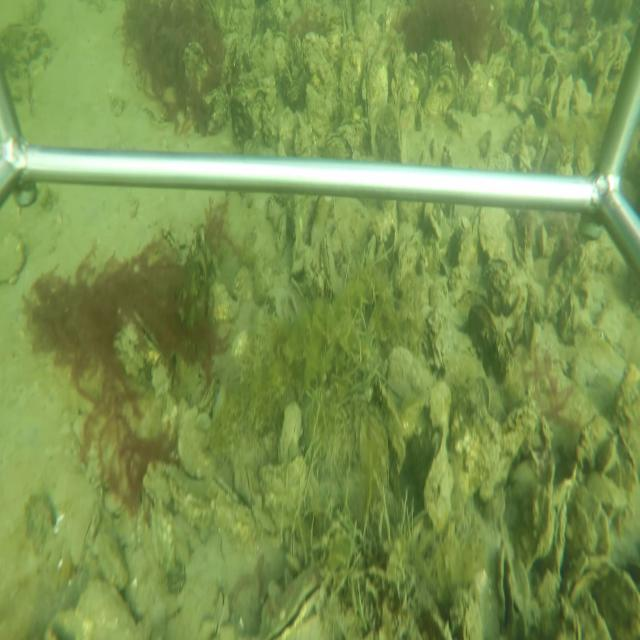Oyster-Closed: (204, 475, 258, 555), (59, 490, 104, 572), (320, 230, 338, 295), (276, 212, 288, 257)
Oyster-Indeterminate: (465, 303, 510, 388), (369, 96, 402, 166)
Oyster-Open: (257, 564, 328, 638), (498, 531, 516, 639)
